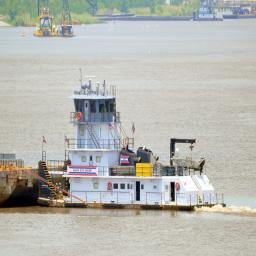tugboat: (37, 65, 230, 217)
